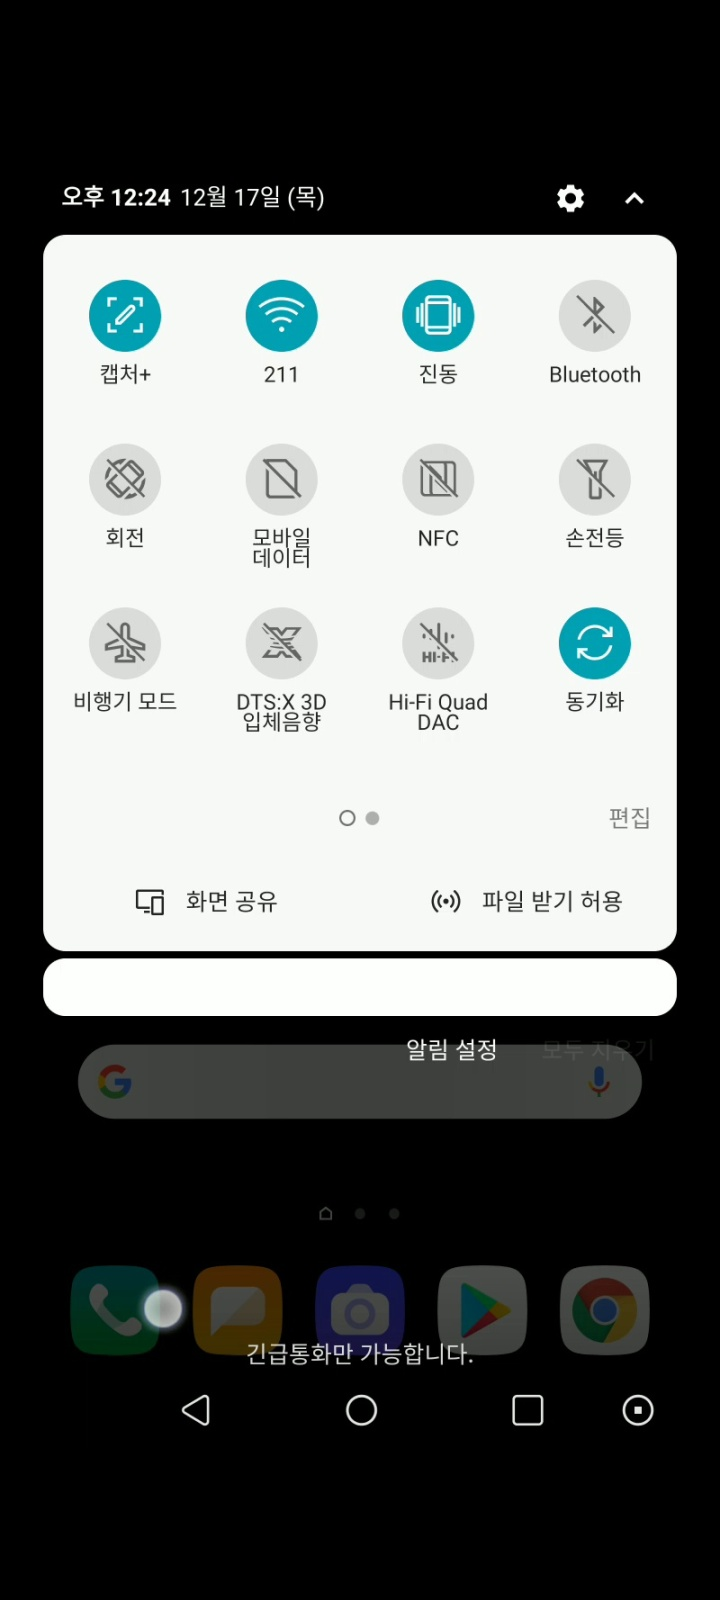Cursor: (141, 1286, 186, 1331)
